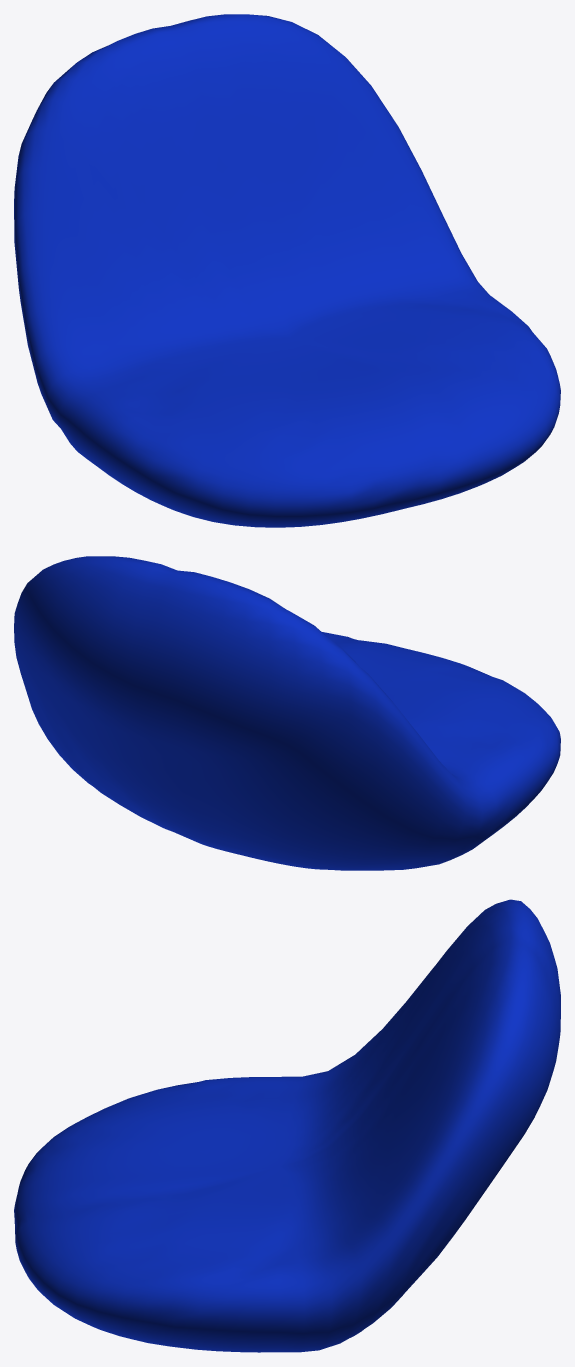
File: beanBag-2.glb
3 renders of one model, top to bottom at view 1: azimuth 30°, elevation 25°; view 2: azimuth 150°, elevation 25°; view 3: azimuth 270°, elevation 25°, orthographic. The views are drawn at different scales.
Visible parts, largest first — view 1: beanBag_2_continuous_cloth; view 2: beanBag_2_continuous_cloth; view 3: beanBag_2_continuous_cloth.
Part boxes in pixels (x1,y1,x2,y2): beanBag_2_continuous_cloth: (14,14,560,527); beanBag_2_continuous_cloth: (14,556,560,870); beanBag_2_continuous_cloth: (14,899,560,1352).
Size of the model in its own units: 1.04 by 0.78 by 1.1.
